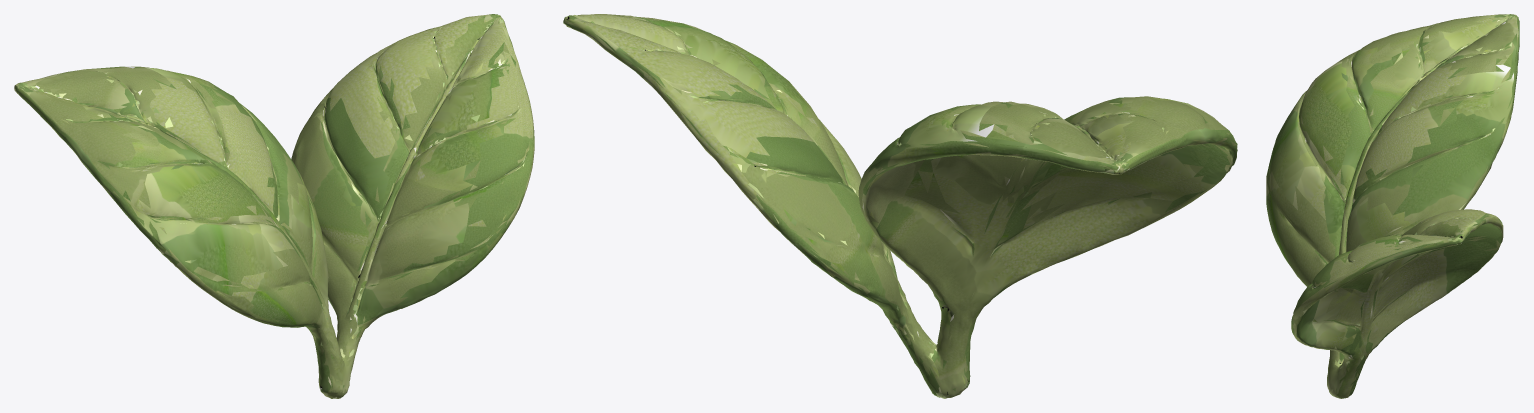
File: mem_ac_leaf2.fbx
3 views of the same model, side by side, from view 1: azimuth 30°, elevation 25°; view 2: azimuth 150°, elevation 25°; view 3: azimuth 270°, elevation 25° (orthographic). The views are drawn at different scales.
Visible parts, largest first — view 1: tripo_node_819bc06d-5a0b-40ea-8606-1fd2516f5a77; view 2: tripo_node_819bc06d-5a0b-40ea-8606-1fd2516f5a77; view 3: tripo_node_819bc06d-5a0b-40ea-8606-1fd2516f5a77.
Part boxes in pixels (box(x1,y1,x2,y2)): tripo_node_819bc06d-5a0b-40ea-8606-1fd2516f5a77: box(14, 14, 534, 398); tripo_node_819bc06d-5a0b-40ea-8606-1fd2516f5a77: box(563, 14, 1237, 398); tripo_node_819bc06d-5a0b-40ea-8606-1fd2516f5a77: box(1266, 14, 1519, 398).
Size of the model in its own units: 0.998 by 0.627 by 0.5137.
1 material, 1 textured.
